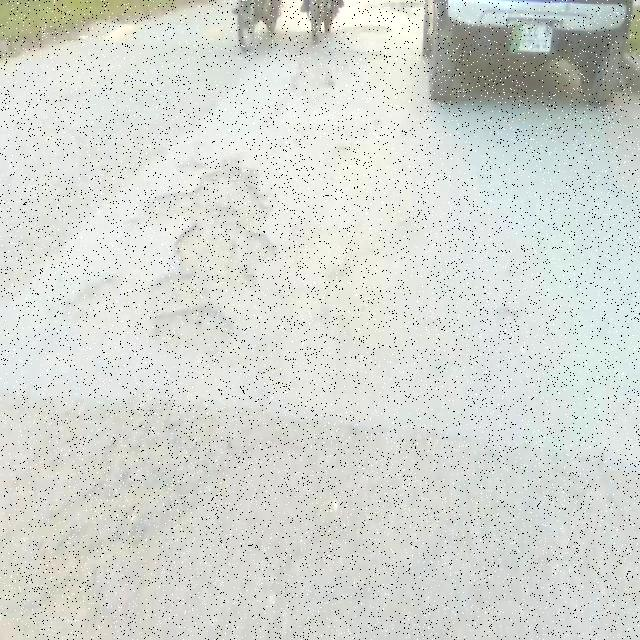pothole: (126, 160, 272, 291), (152, 308, 234, 343)
